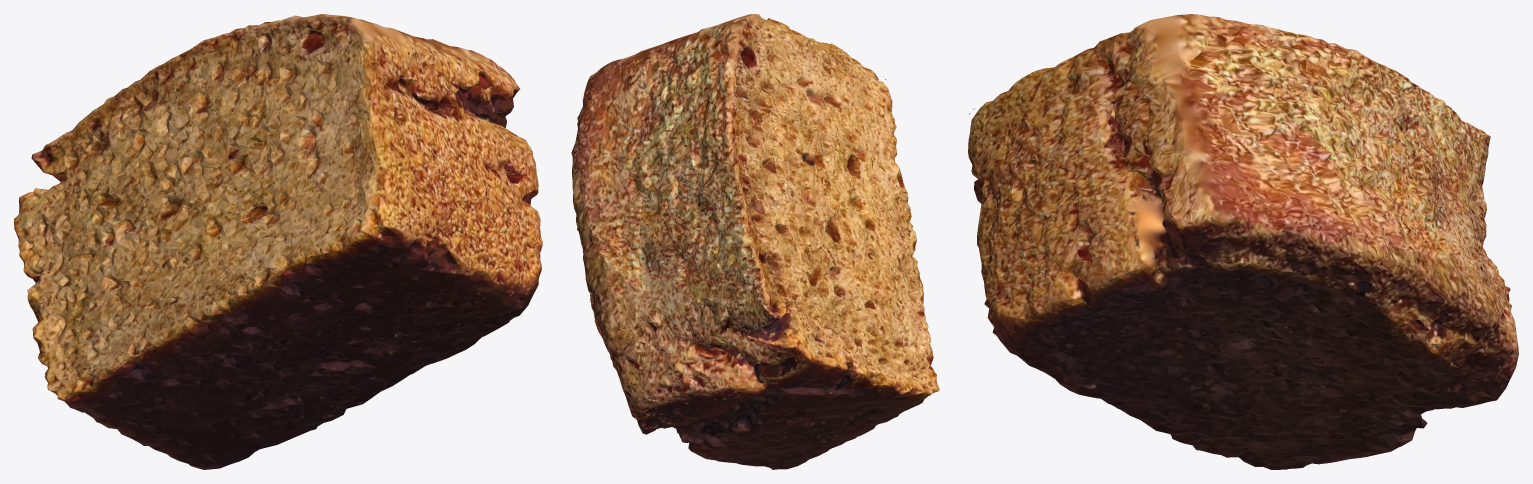
The model's file is Brot.fbx.
3 renders of one model, left to right at view 1: azimuth 30°, elevation 25°; view 2: azimuth 150°, elevation 25°; view 3: azimuth 270°, elevation 25°, orthographic. The views are drawn at different scales.
Visible parts, largest first — view 1: Brot_tex_high; view 2: Brot_tex_high; view 3: Brot_tex_high.
Boxes of the visible parts, bbox=[...] form: Brot_tex_high: bbox=[14, 14, 542, 469]; Brot_tex_high: bbox=[571, 14, 939, 469]; Brot_tex_high: bbox=[968, 14, 1518, 469].
Size of the model in its own units: 13.17 by 13.47 by 13.33.
